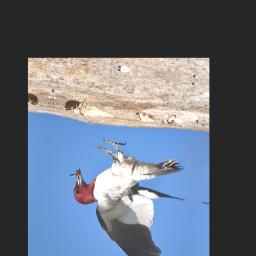Woodpecker: (61, 133, 191, 256)
